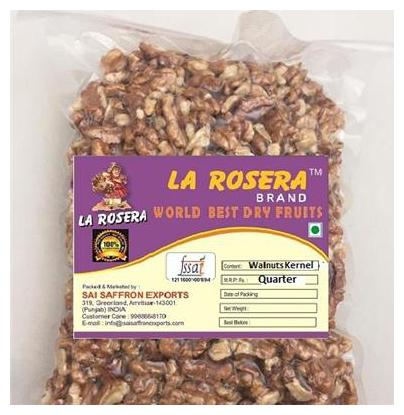fssai: (176, 253, 207, 276)
